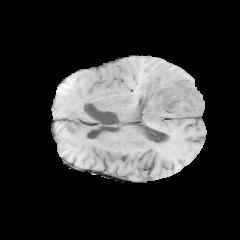glioma: (136, 65, 204, 139)
